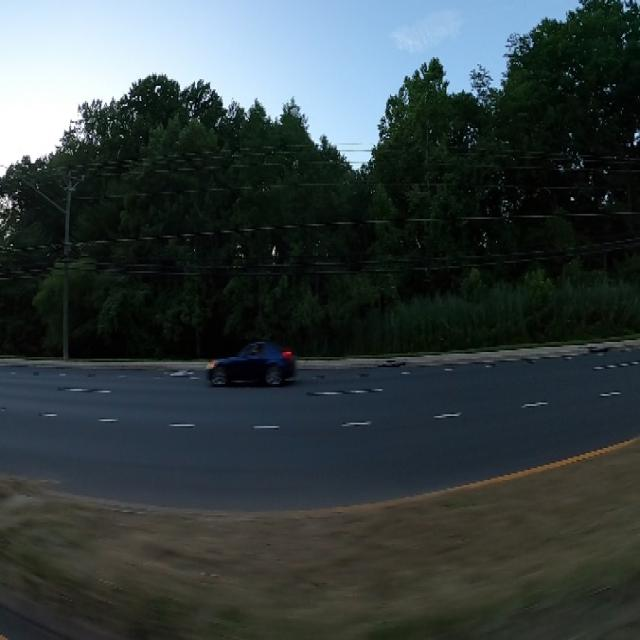Cars: (199, 343, 307, 391)
